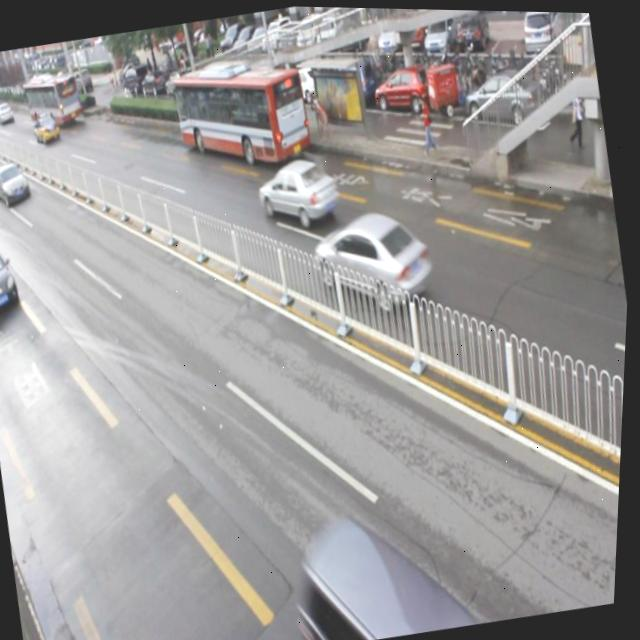car: (308, 199, 441, 321), (254, 152, 344, 232), (0, 240, 27, 319)
van: (169, 54, 316, 175)
